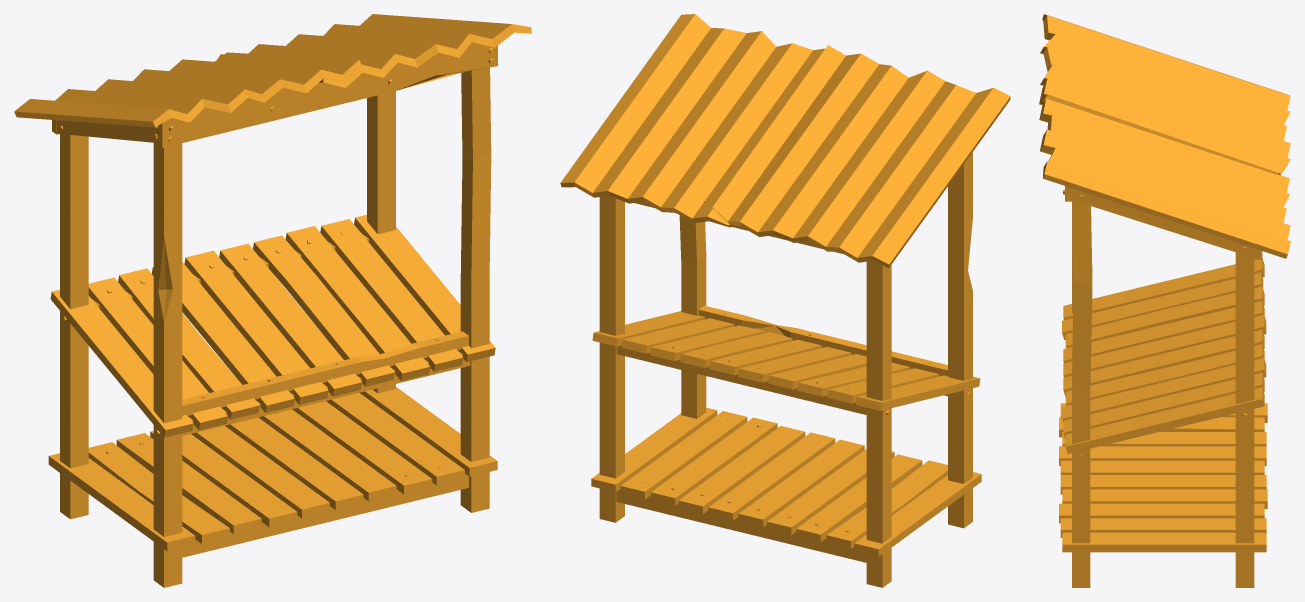
Rendered from SM_Produce_Stand_A_Empty_Farm.fbx.
The picture shows the model from 3 angles, left to right: view 1: azimuth 30°, elevation 25°; view 2: azimuth 150°, elevation 25°; view 3: azimuth 270°, elevation 25°; orthographic projection. The views are drawn at different scales.
Parts seen in each view (by area): view 1: produce-stand-a-empty-farm; view 2: produce-stand-a-empty-farm; view 3: produce-stand-a-empty-farm.
Boxes of the visible parts, bbox=[...] form: produce-stand-a-empty-farm: bbox=[14, 14, 531, 587]; produce-stand-a-empty-farm: bbox=[560, 14, 1010, 587]; produce-stand-a-empty-farm: bbox=[1039, 14, 1290, 587].
Bounding box in the file's own units: 2 × 2.49 × 1.32.
